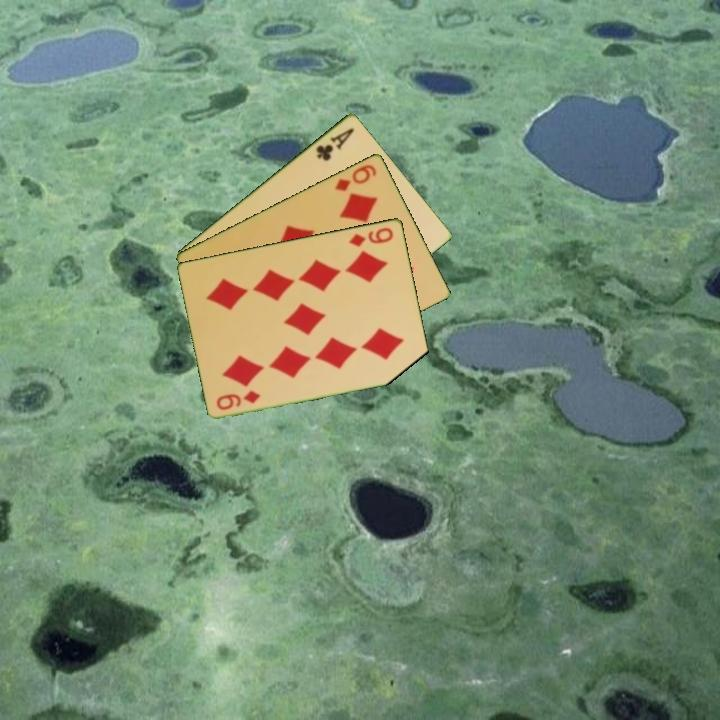6d: (331, 160, 379, 194)
9d: (213, 386, 264, 413), (345, 223, 396, 249)
Ac: (312, 124, 357, 164)
